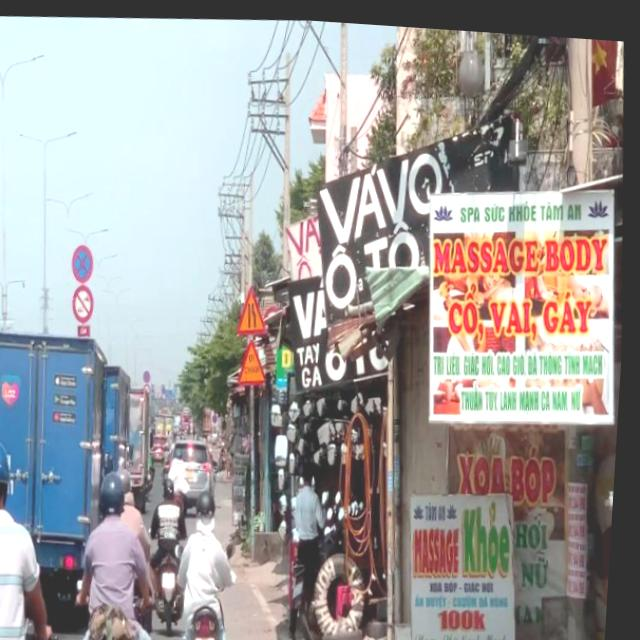Cam dung xe va do xe: (73, 242, 99, 283), (148, 368, 155, 382), (216, 410, 223, 421)
Di cham: (240, 333, 273, 384)
Giao nhau voi duong khong uu tien ben trai: (238, 280, 275, 333)
